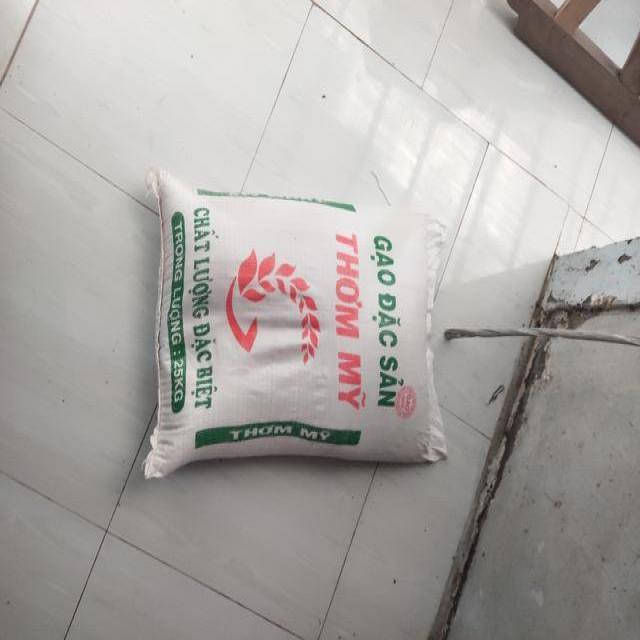gunny_bag: (145, 171, 446, 479)
